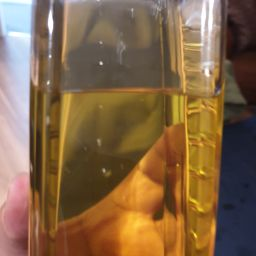Oil: (57, 26, 217, 213), (41, 96, 215, 256)
